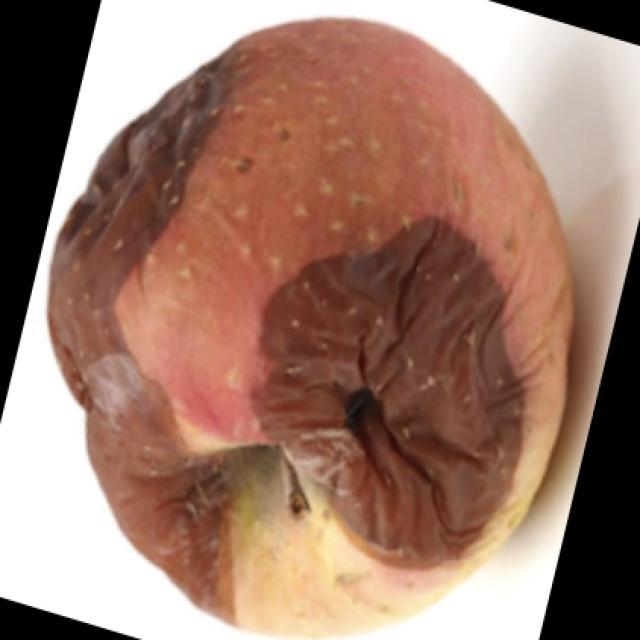Rotten: (56, 28, 536, 617)
